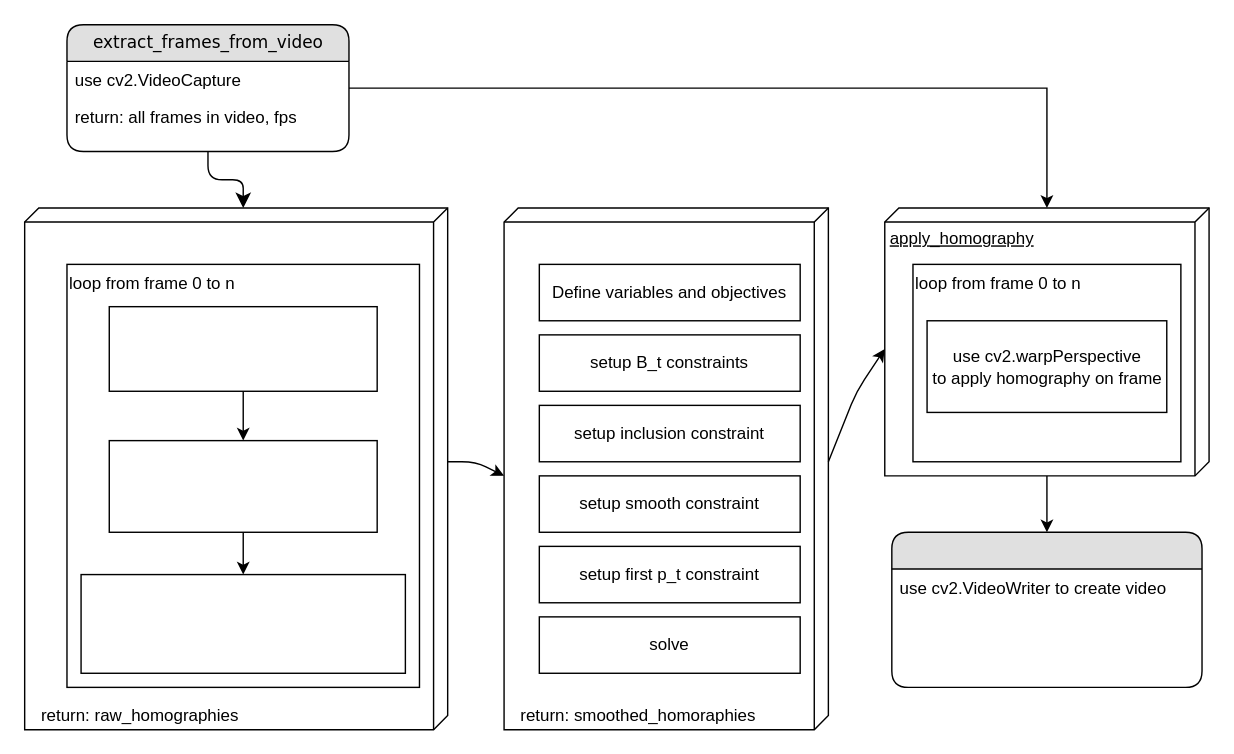
The diagram is 1234 pixels wide and 754 high, and some of its shapes have lost their labels. The box of each missing label's shape, as (x1, y1, x2, y2) in pixels:
compute homographies from frames: (23, 207, 448, 730)
compute_smooth_path: (503, 207, 828, 730)
create_video_from_frames: (890, 531, 1202, 687)
find features to track in frame t use cv2.goodFeaturesToTrack: (108, 305, 377, 391)
find homography from frame t+1 to frame t use cv2.estimateAffine2D: (80, 573, 405, 673)
find positions in frame t+1 use cv2.calcOpticalFlowPyrLK: (108, 439, 377, 532)
